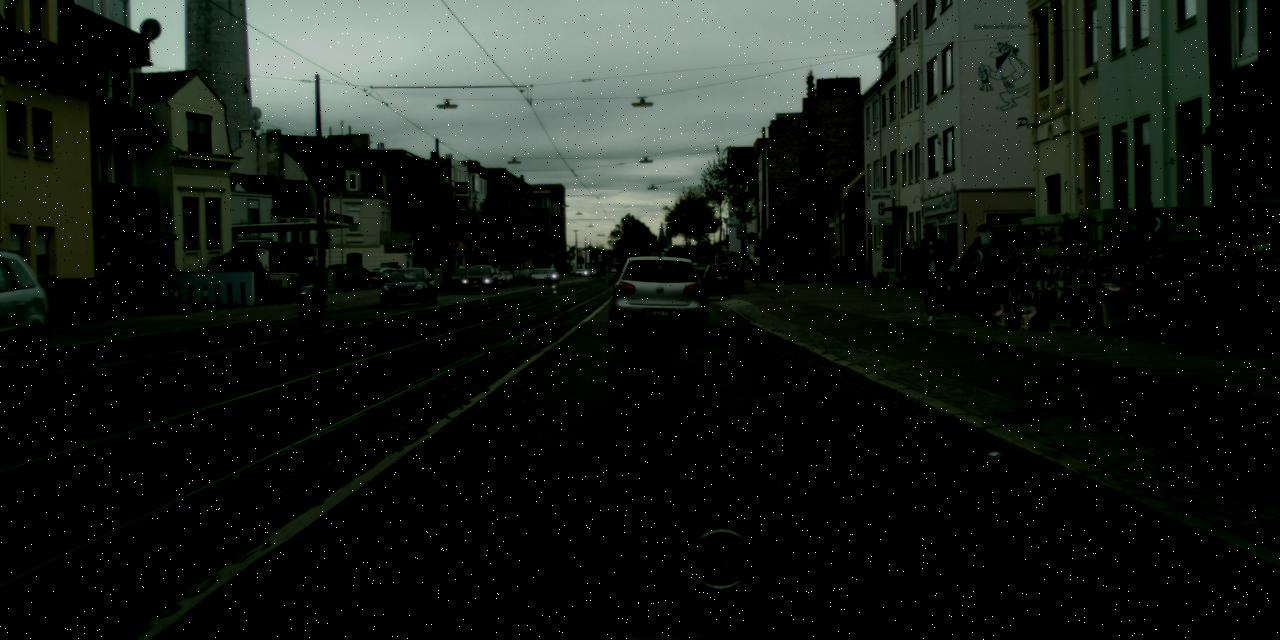ped: (911, 222, 951, 322), (300, 255, 321, 307), (750, 252, 761, 280), (458, 263, 464, 279)
